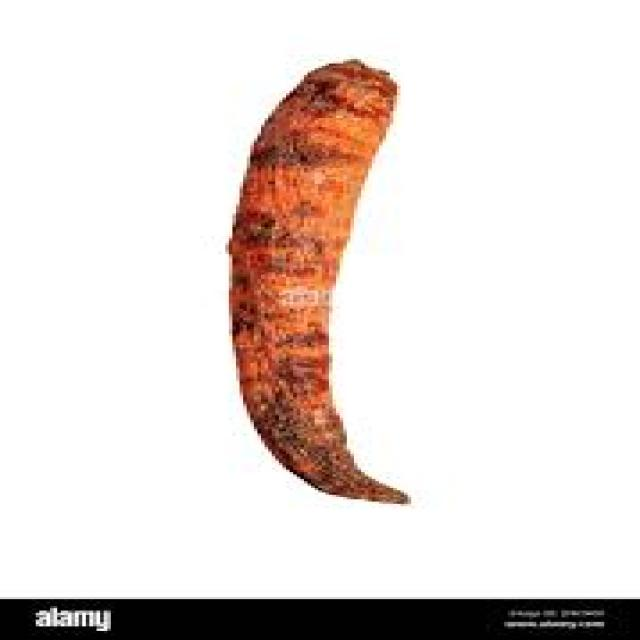Stale_Carrot: (251, 60, 418, 514)
